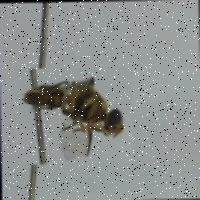Oriental-fruit-fly: (14, 66, 133, 164)
